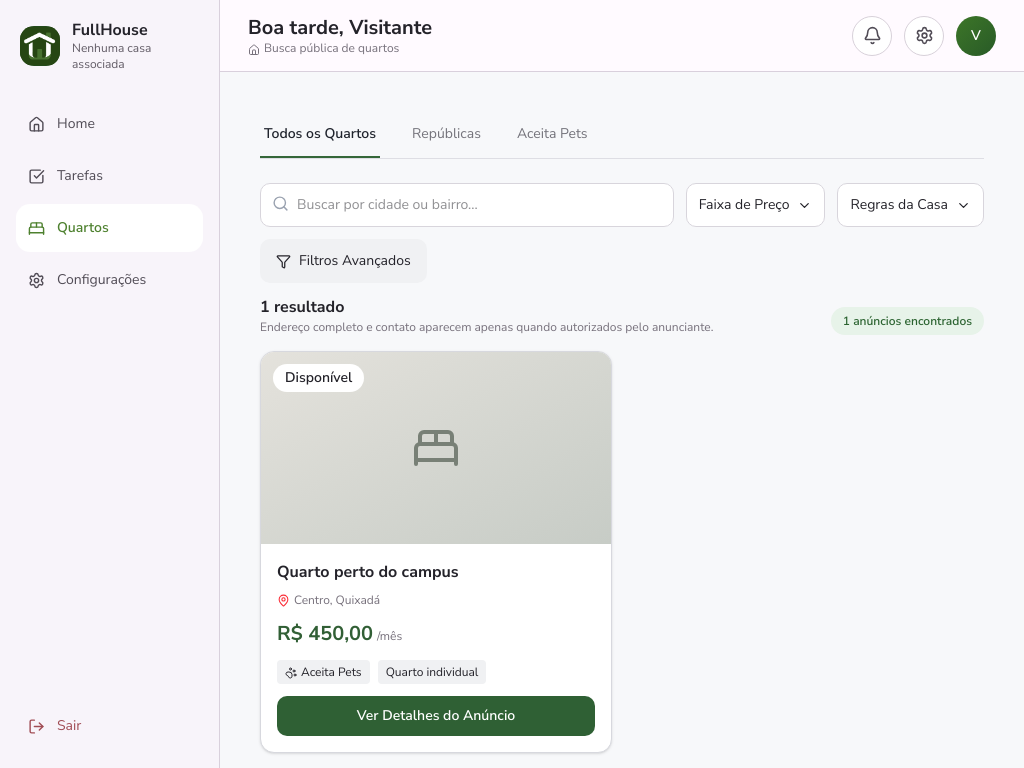
RoomsPage › renders API results and applies the contact/address privacy response
This screenshot has width=1024, height=768.
Expected: the heading "Quarto perto do campus" is shown, x1=277 y1=561 x2=459 y2=583
Click the button "Ver Detalhes do Anúncio".
click(436, 716)  # box x1=277 y1=696 x2=595 y2=736
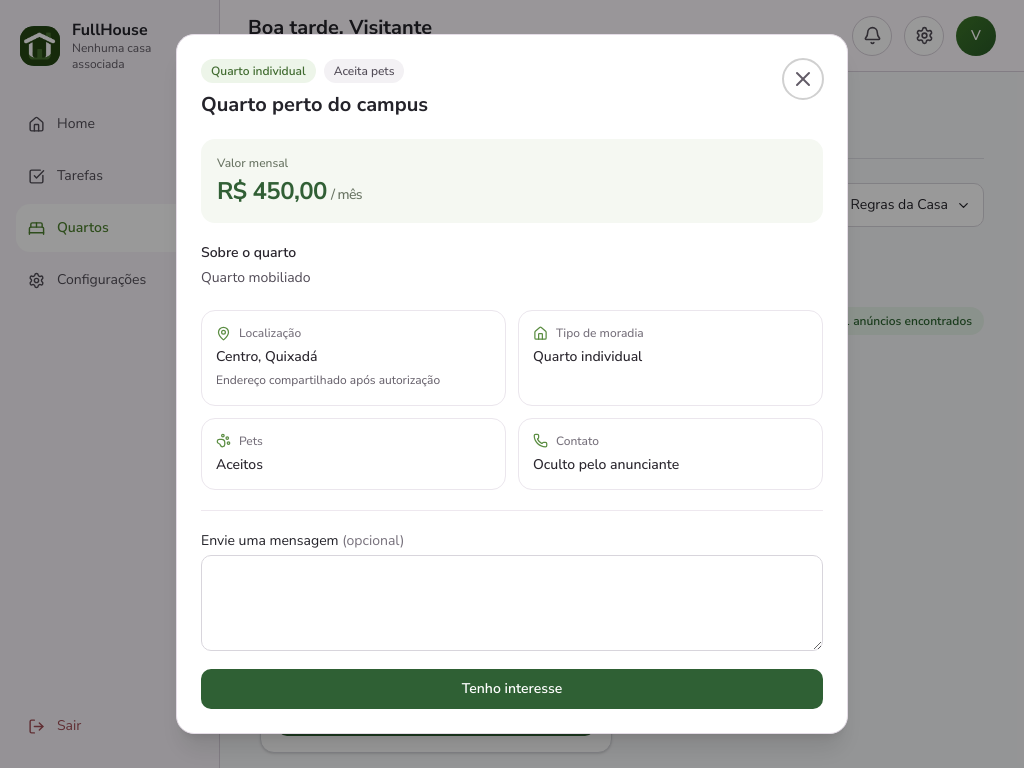
Expected: the text "Contato" is shown, x1=533 y1=433 x2=599 y2=449
Expected: the text "Oculto pelo anunciante" is shown, x1=533 y1=455 x2=679 y2=474
Expected: the text "Endereço compartilhado após autorização" is shown, x1=216 y1=372 x2=440 y2=388
